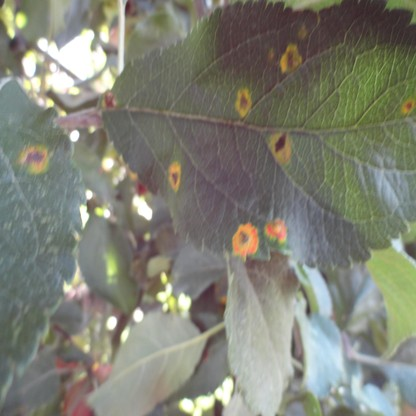rust: (18, 145, 49, 174), (233, 224, 258, 255), (270, 132, 291, 162), (281, 44, 302, 74), (265, 220, 288, 243), (235, 87, 250, 119), (170, 160, 181, 191), (399, 98, 414, 114), (298, 25, 305, 38), (268, 50, 273, 59)
